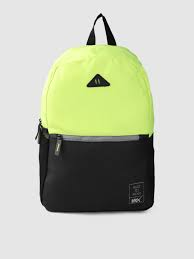backpack: (35, 12, 155, 212)
